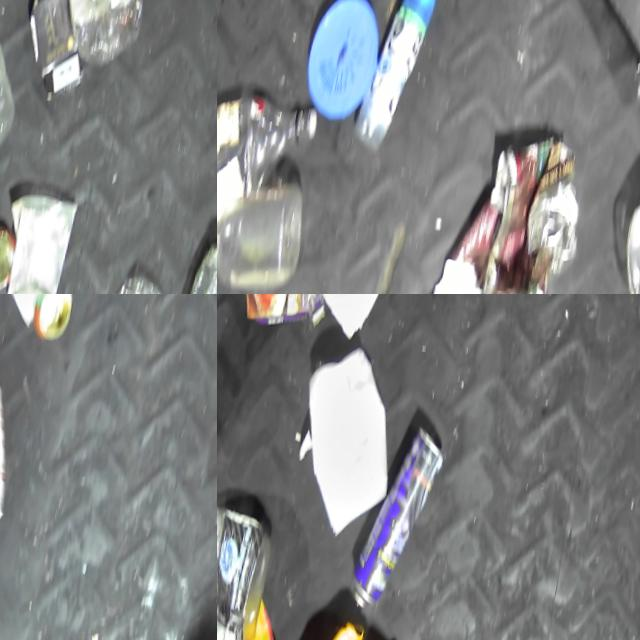can: (342, 421, 450, 622), (0, 192, 78, 294), (25, 294, 80, 346), (0, 226, 17, 294)
plastic_bottle: (217, 84, 321, 234), (217, 166, 308, 294), (37, 0, 172, 82), (217, 497, 277, 640), (173, 217, 217, 294)
